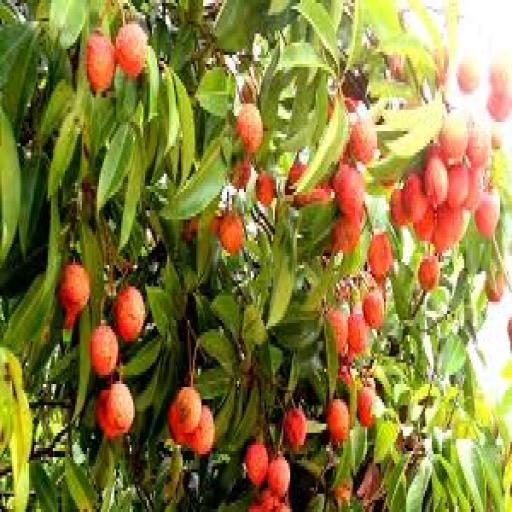lychee: (59, 263, 90, 329), (333, 162, 365, 219), (113, 287, 145, 341), (88, 31, 116, 91), (117, 22, 146, 79), (439, 110, 467, 164), (432, 205, 464, 252), (91, 324, 119, 377), (106, 381, 134, 432), (188, 406, 215, 457), (350, 113, 377, 164), (236, 104, 262, 155), (367, 232, 394, 280), (424, 153, 448, 207), (466, 116, 491, 167), (402, 174, 428, 222), (175, 388, 201, 432), (475, 192, 500, 237), (96, 391, 119, 438), (245, 442, 269, 487), (326, 308, 348, 356), (219, 211, 244, 252), (326, 400, 349, 444), (333, 217, 361, 252), (284, 409, 307, 451), (490, 49, 511, 94), (267, 455, 290, 496), (294, 183, 332, 207), (349, 308, 368, 353), (458, 55, 479, 94), (362, 290, 383, 329), (463, 168, 482, 210), (448, 165, 467, 207), (168, 403, 187, 444), (286, 159, 307, 195), (419, 256, 440, 292), (390, 189, 409, 228), (414, 205, 435, 240), (487, 92, 511, 121), (357, 388, 375, 426), (256, 171, 274, 207), (485, 272, 505, 301), (231, 159, 250, 188)
